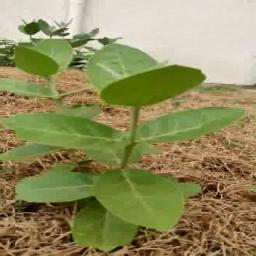CALOTROPIS: (16, 39, 203, 246)
